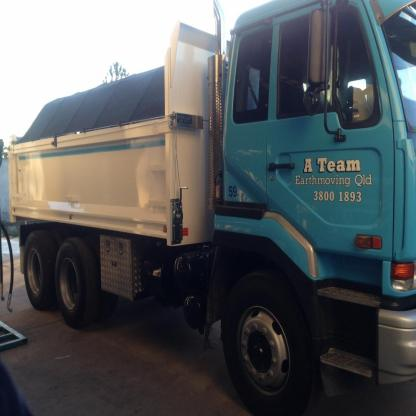dump_truck: (9, 13, 414, 402)
